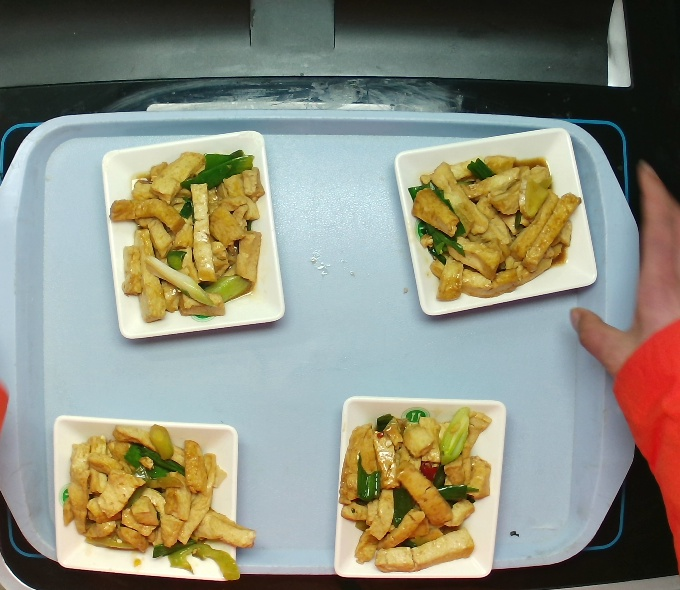wcq-SuanMiaoChaoXiangGan: (329, 394, 501, 586), (410, 149, 582, 306), (74, 427, 245, 578), (116, 154, 260, 320)
